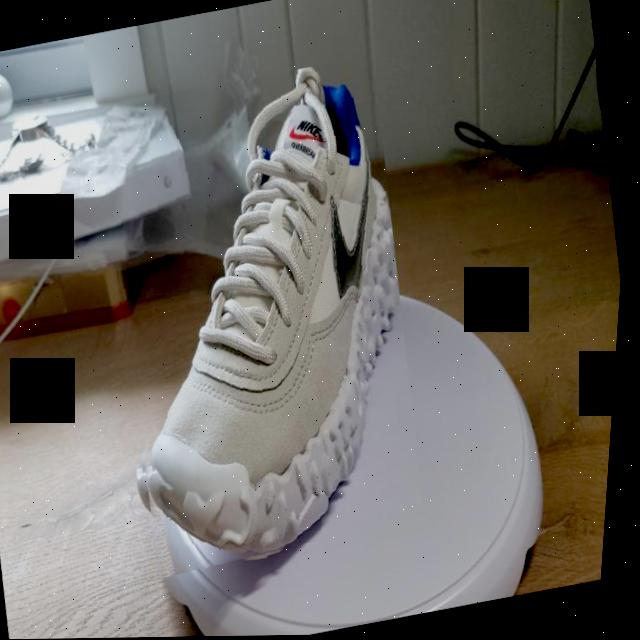shoe: (71, 55, 457, 582)
